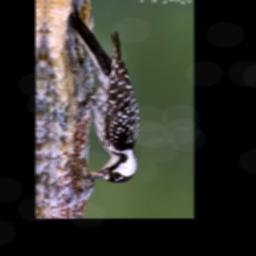Woodpecker: (63, 7, 146, 184)
